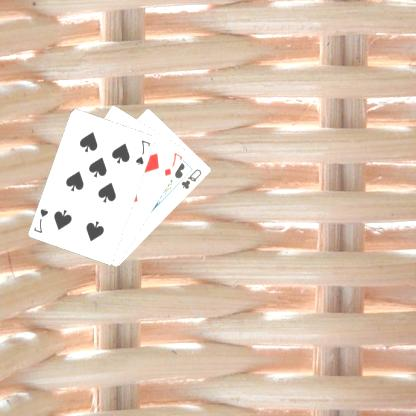7D: (163, 149, 185, 178)
7S: (32, 205, 52, 235), (134, 138, 154, 166)
QC: (180, 166, 205, 190)
